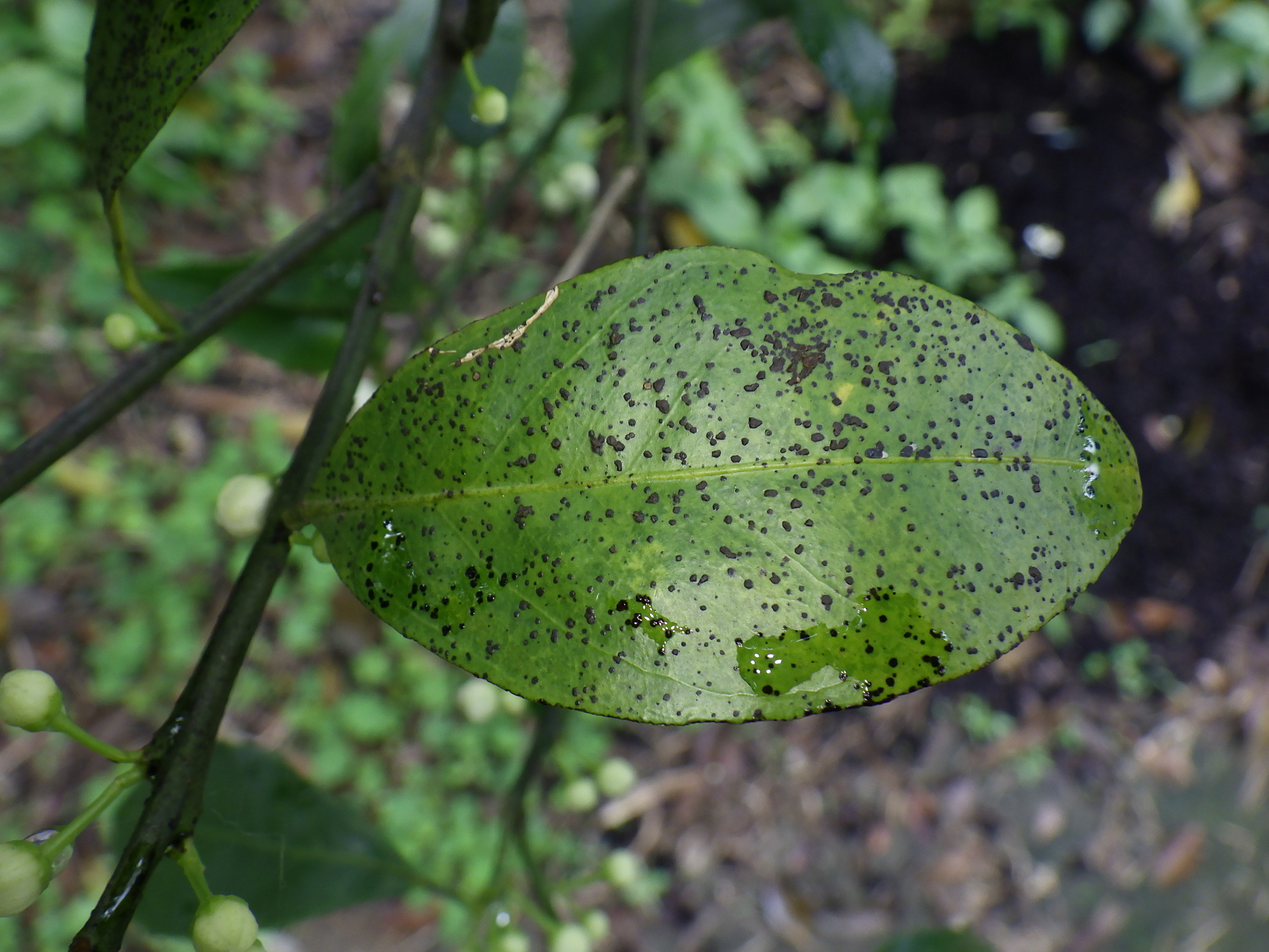Black_Spot: (297, 248, 1140, 723)
